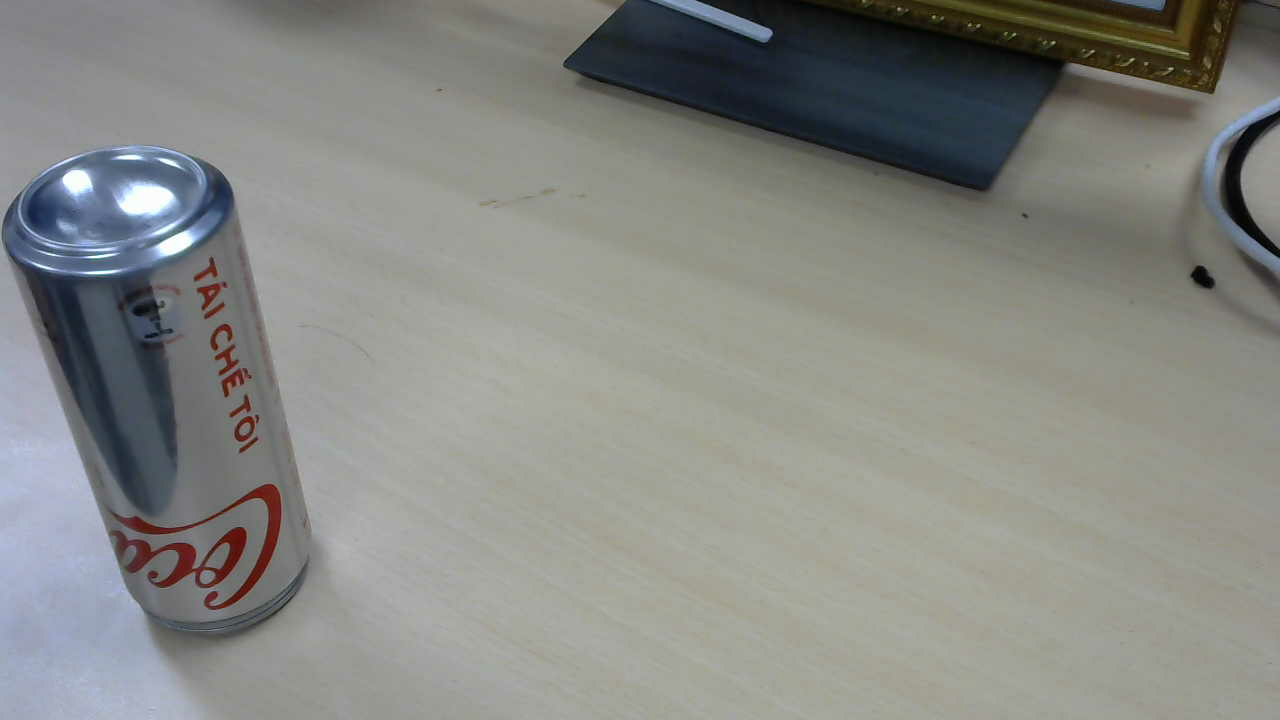Coca_Cola: (8, 148, 322, 640)
